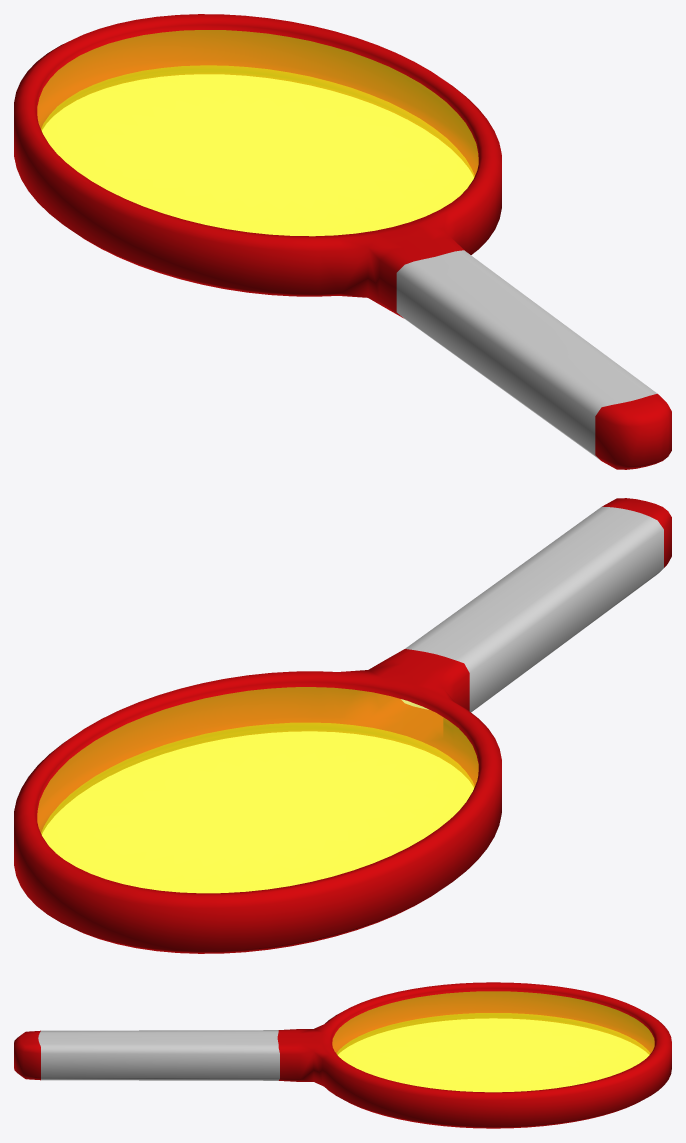
The model's file is racket.fbx.
The picture shows the model from 3 angles, top to bottom: view 1: azimuth 30°, elevation 25°; view 2: azimuth 150°, elevation 25°; view 3: azimuth 270°, elevation 25°; orthographic projection. The views are drawn at different scales.
Parts seen in each view (by area): view 1: Cylinder; view 2: Cylinder; view 3: Cylinder.
Boxes of the visible parts, box(x1,y1,x2,y2) form: Cylinder: box(14, 14, 671, 469); Cylinder: box(14, 498, 671, 953); Cylinder: box(14, 982, 671, 1128).
Bounding box in the file's own units: 125 × 17.48 × 300.
